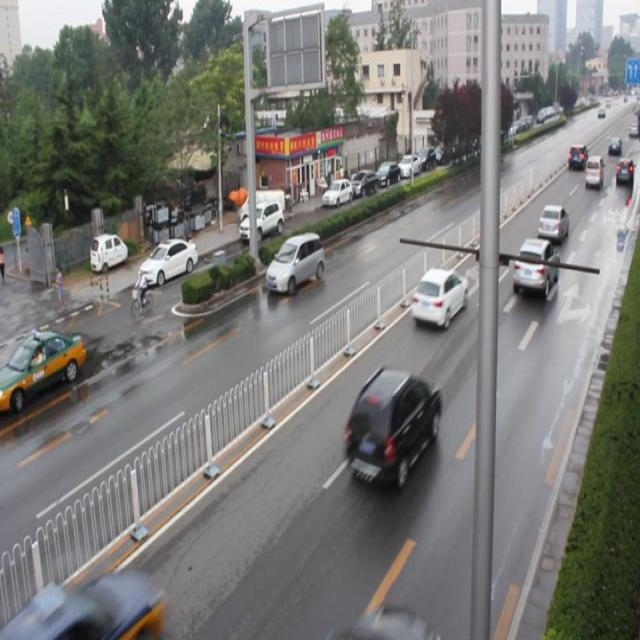car: (345, 364, 440, 487), (14, 567, 164, 640), (411, 269, 467, 331), (264, 233, 322, 290), (512, 236, 558, 299), (536, 202, 567, 242)
truck: (584, 156, 602, 188)
